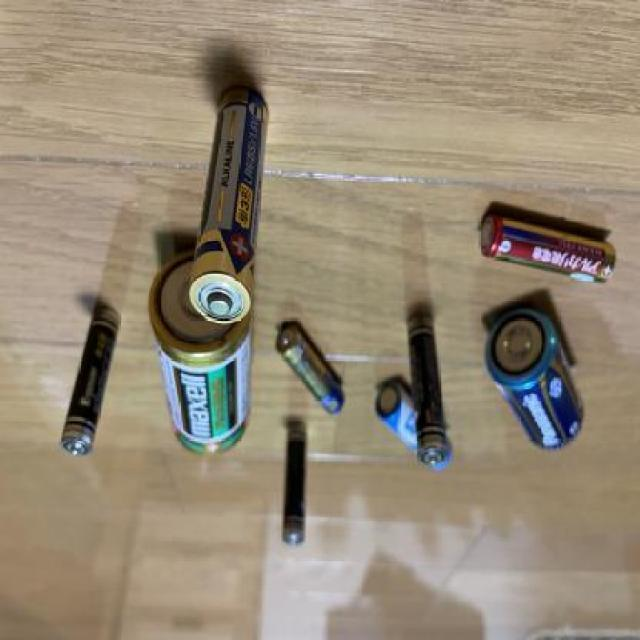AAA: (476, 210, 618, 284), (402, 303, 449, 469), (275, 322, 348, 418)
